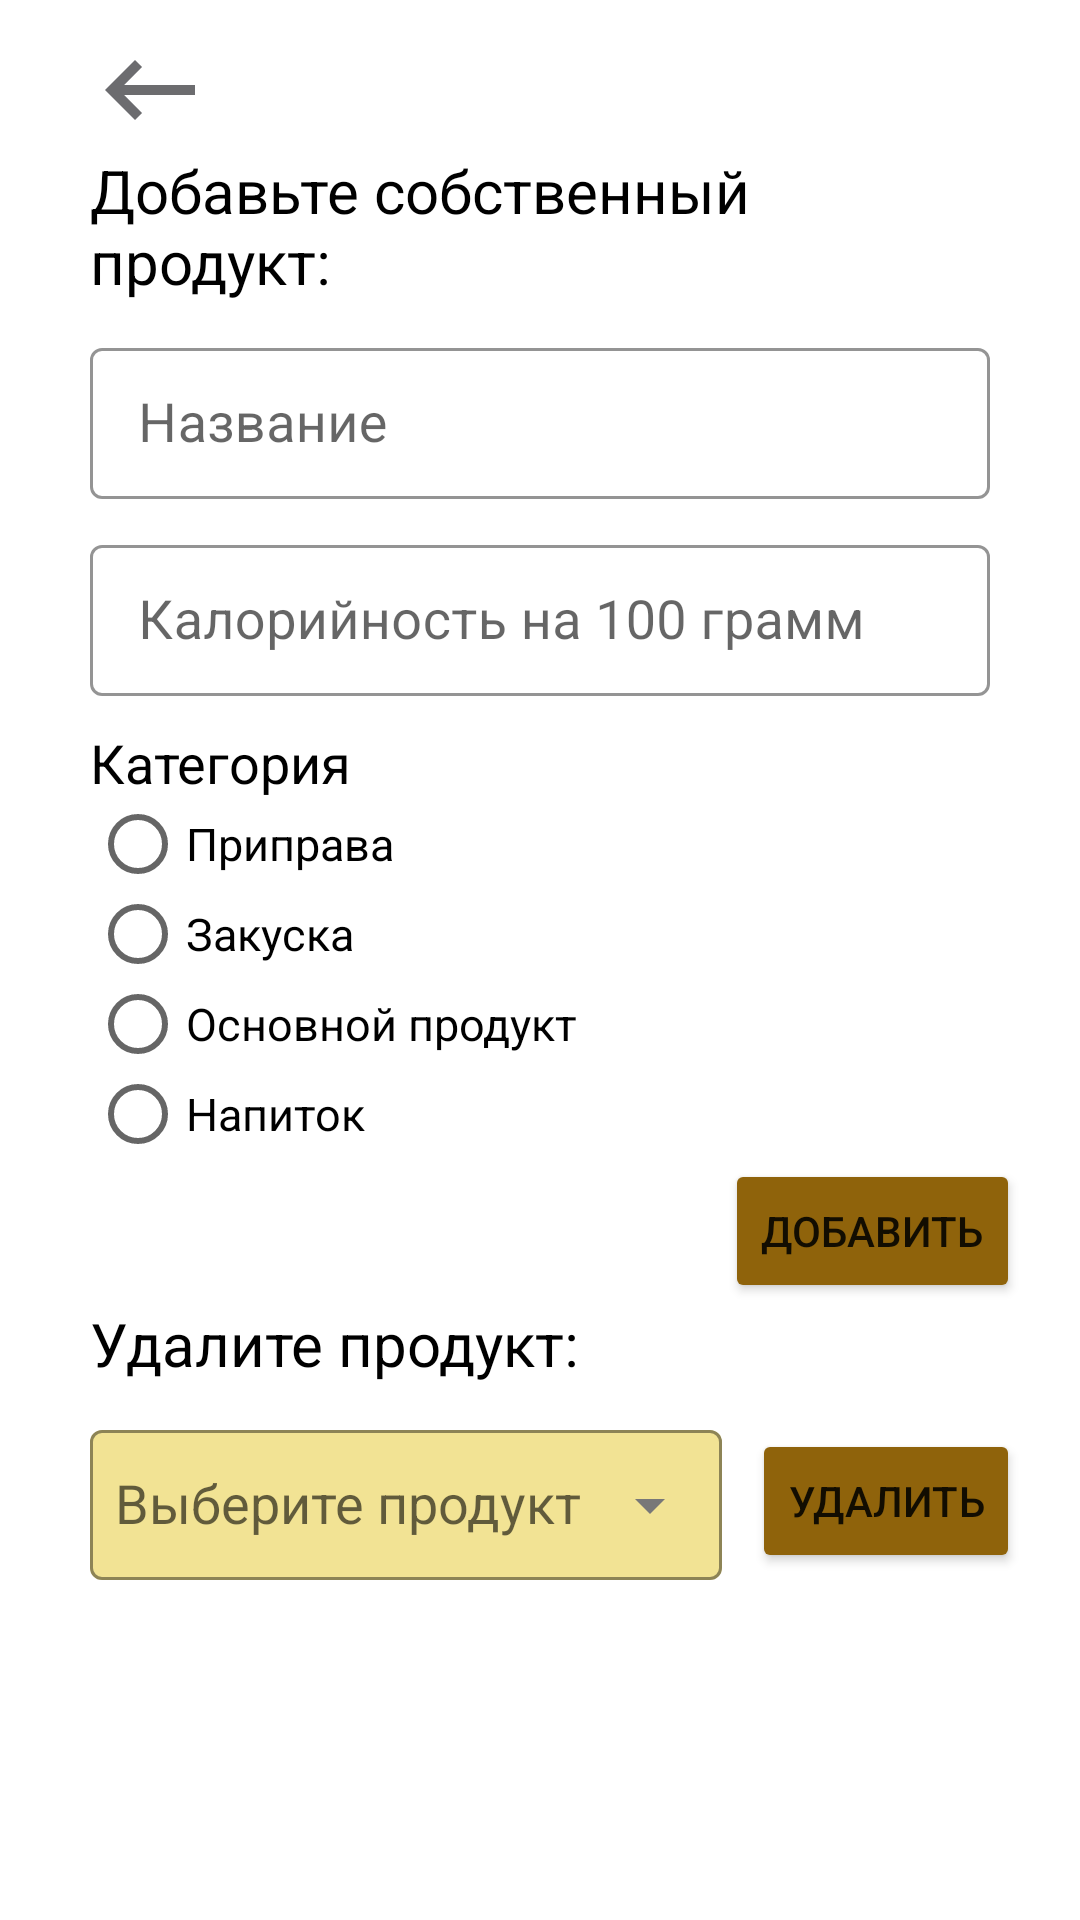

Where icons sit on this 1080*1920 app screen, as region(x1, y1, x2, y2):
back: region(105, 60, 195, 120)
